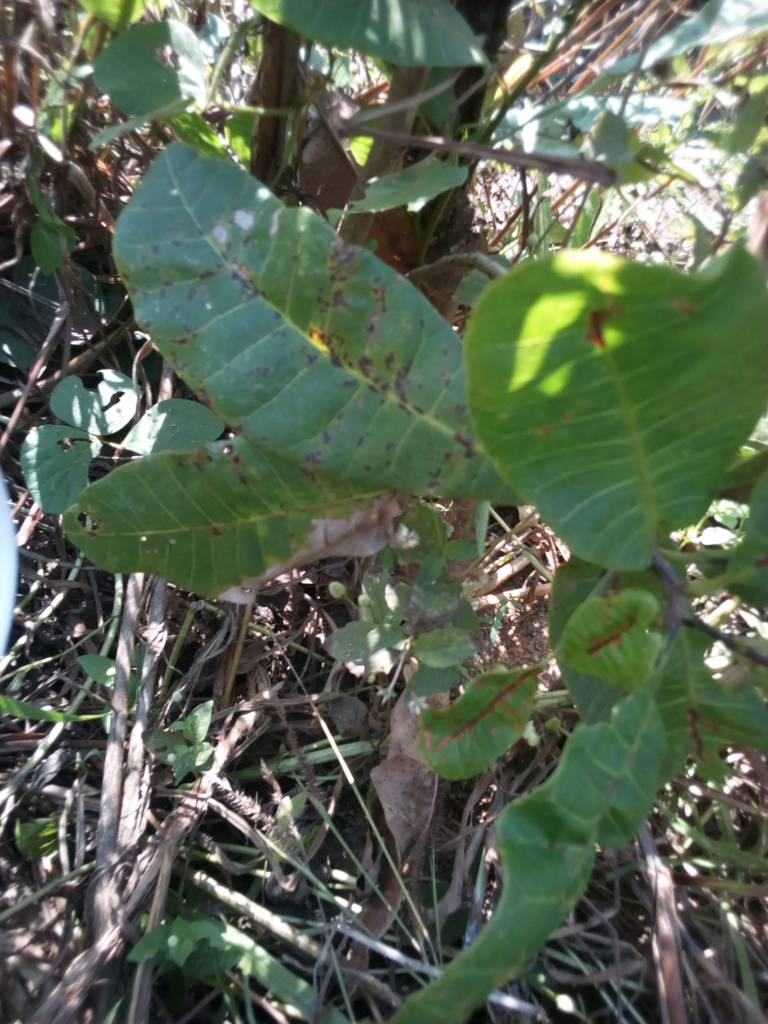Anthracnose: (110, 146, 457, 502)
